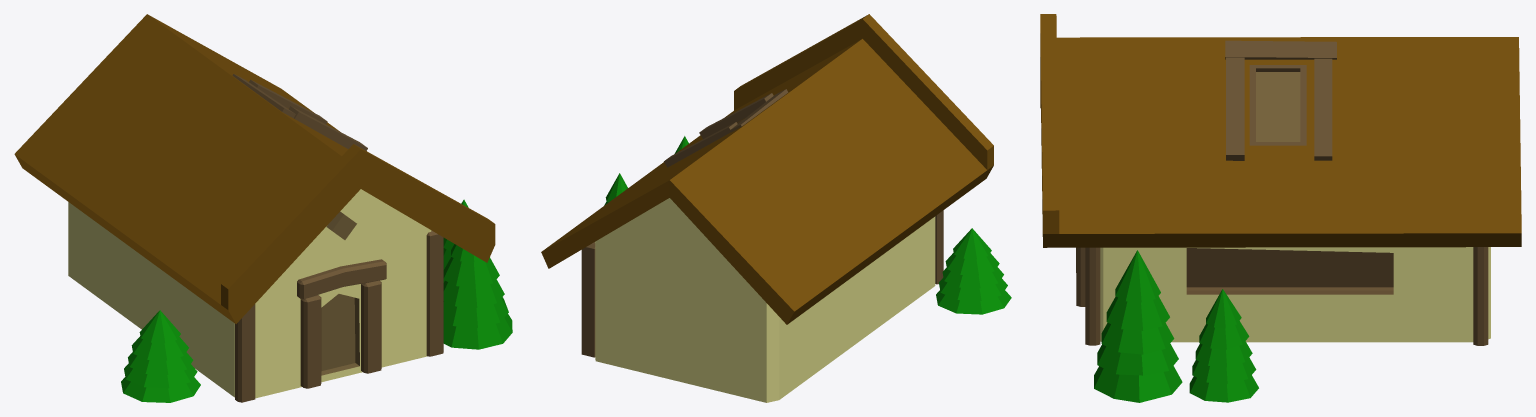
File: SideHouse1.fbx
3 views of the same model, side by side, from view 1: azimuth 30°, elevation 25°; view 2: azimuth 150°, elevation 25°; view 3: azimuth 270°, elevation 25° (orthographic). The views are drawn at different scales.
Visible parts, largest first — view 1: House.003, Cone.003; view 2: House.003, Cone.003; view 3: House.003, Cone.003.
Boxes of the visible parts, x1,y1,x2,y2 form: House.003: [14, 14, 495, 402]; Cone.003: [121, 199, 512, 402]; House.003: [541, 14, 993, 402]; Cone.003: [604, 136, 1011, 314]; House.003: [1040, 14, 1521, 345]; Cone.003: [1094, 250, 1258, 402].
Size of the model in its own units: 4499 by 2702 by 4156.
